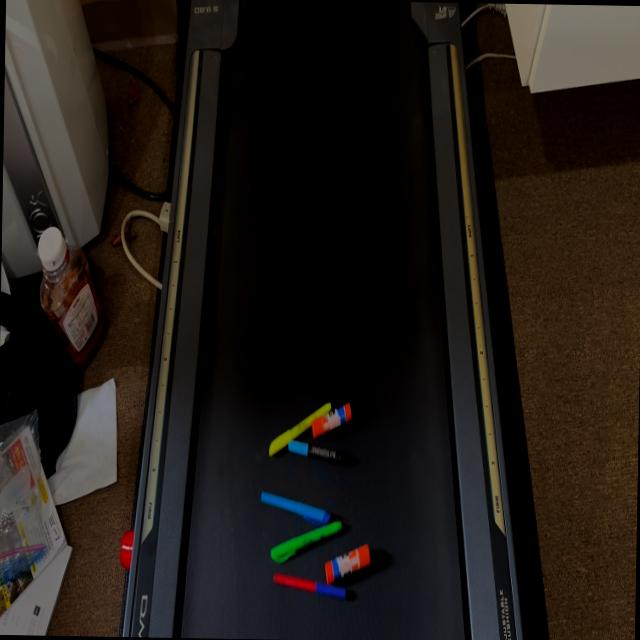Trash: (268, 399, 332, 457), (270, 518, 341, 566), (260, 490, 328, 528), (270, 572, 348, 600), (324, 542, 371, 586), (286, 436, 352, 467), (312, 401, 352, 438)
